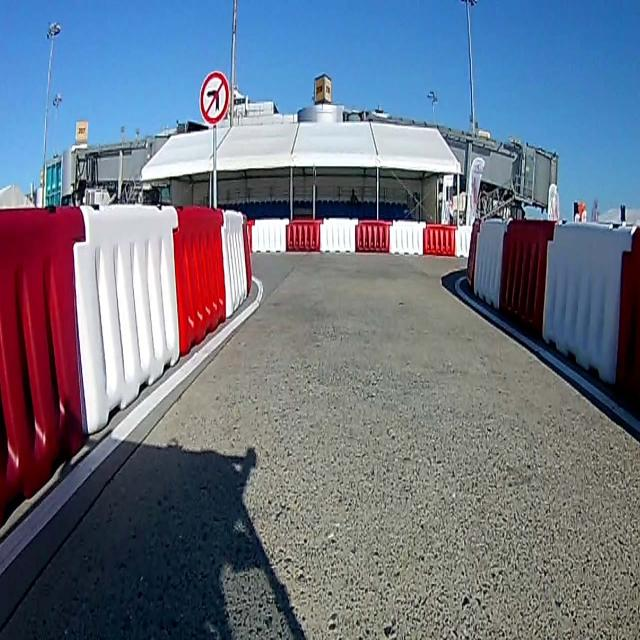soladonulmez: (199, 74, 230, 122)
